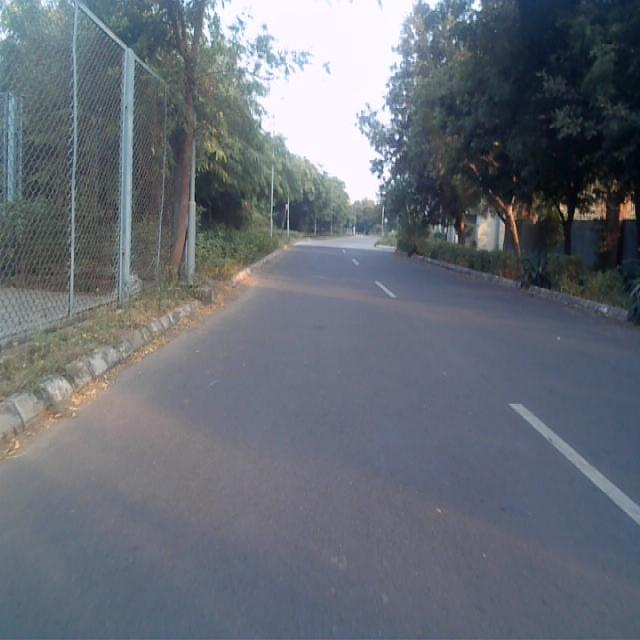lane: (0, 246, 640, 640)
